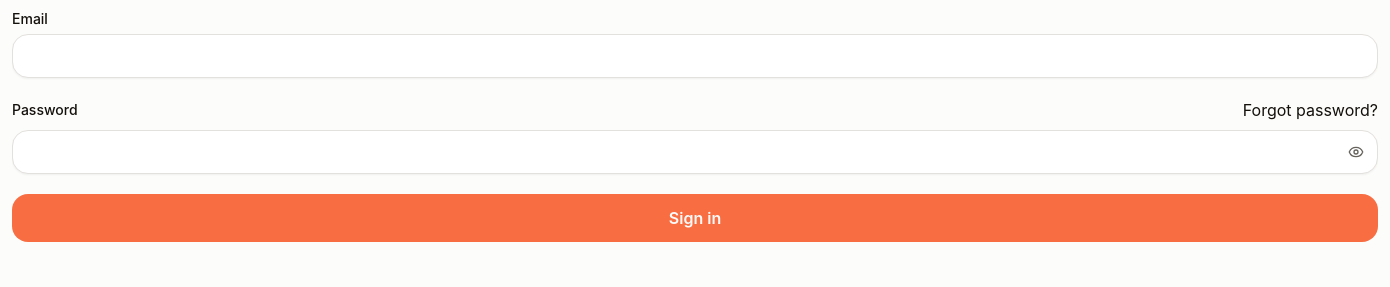
LoginForm › surfaces server field errors on 422
The width and height of the screenshot is (1390, 287).
Type "x@b.co" into the field with test id "login-email".
click(695, 56); type("x@b.co")  # box [12,34,1378,78]
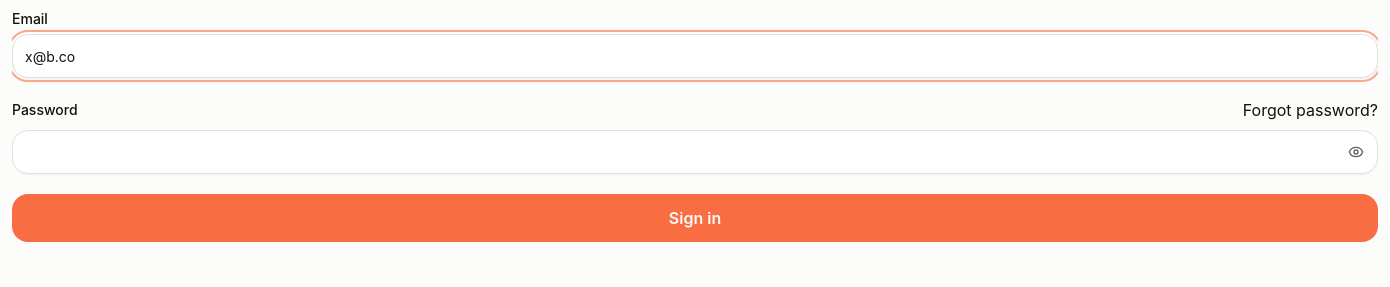
Type "secret123" into the password field with test id "login-password".
click(695, 152); type("secret123")  # box [12,130,1378,174]
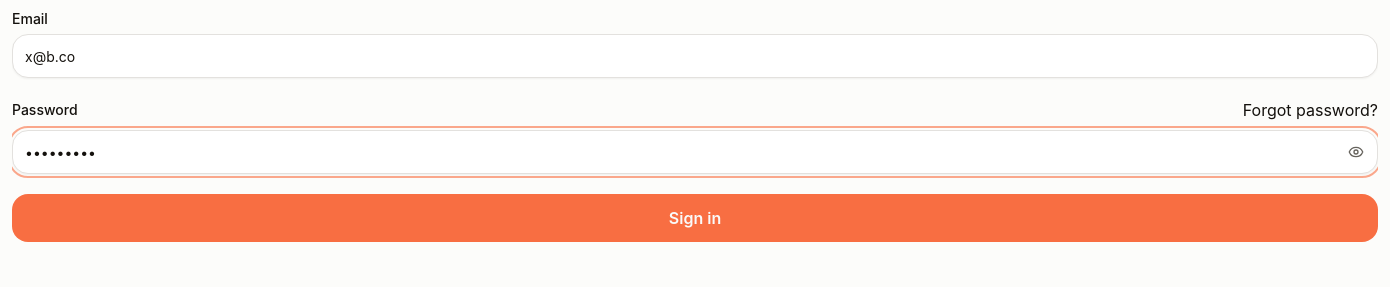
Click the button with test id "login-submit".
click(695, 218)  # box [12,194,1378,242]
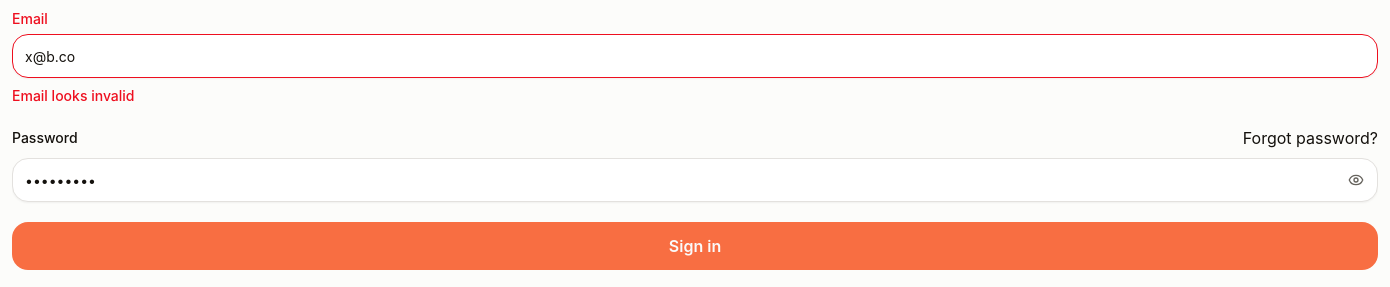
Result: the text "Email looks invalid" is shown at [12,87,134,104]
